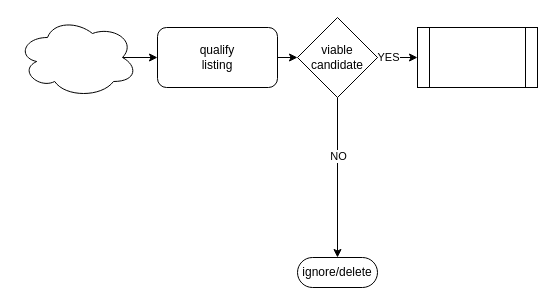
This 555x305 diagram has some shape labels left out. Each missing label, with the box of its shape:
create job listing note: (416, 26, 538, 88)
job listing: (16, 16, 138, 98)
